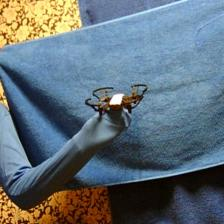drone: (86, 84, 149, 120)
